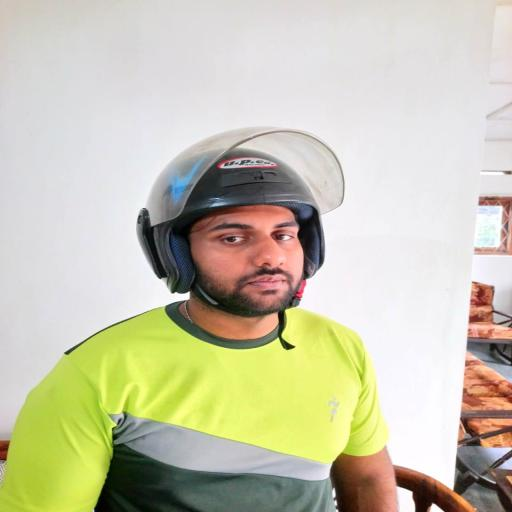with helmet: (135, 126, 346, 294)
